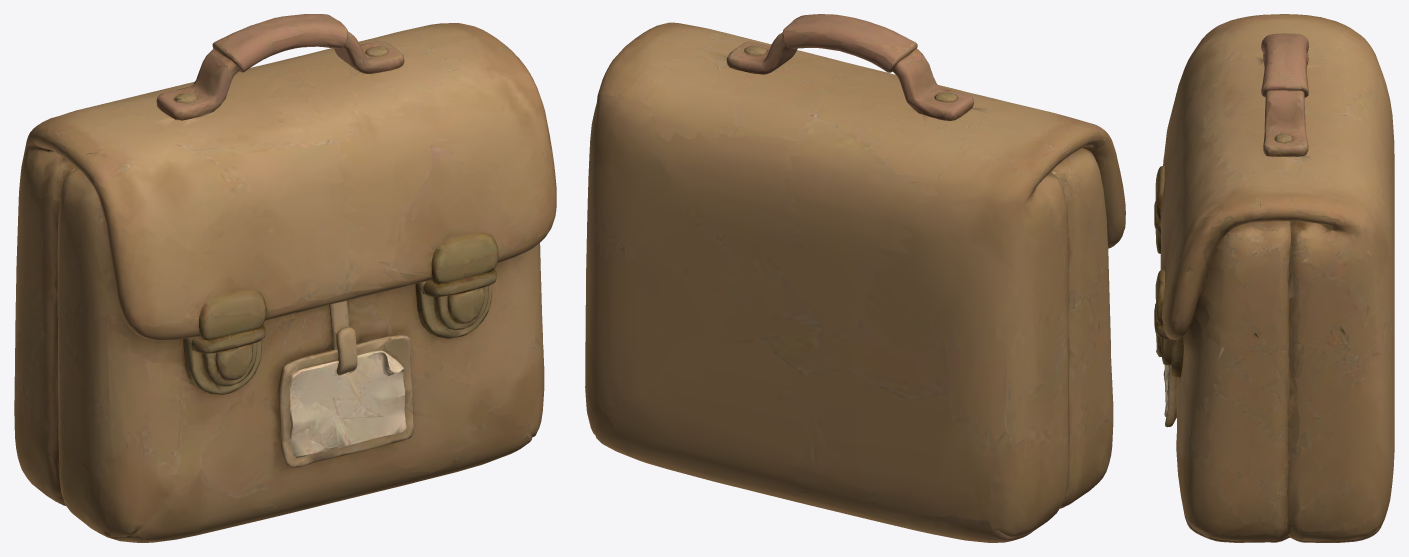
Rendered from t1-canvas-v2.glb.
The picture shows the model from 3 angles, left to right: view 1: azimuth 30°, elevation 25°; view 2: azimuth 150°, elevation 25°; view 3: azimuth 270°, elevation 25°; orthographic projection. The views are drawn at different scales.
Parts seen in each view (by area): view 1: mesh_node; view 2: mesh_node; view 3: mesh_node.
Part boxes in pixels (left/top/right/bottom): mesh_node: left=14, top=14, right=556, bottom=542; mesh_node: left=585, top=14, right=1125, bottom=542; mesh_node: left=1154, top=14, right=1394, bottom=542.
Bounding box in the file's own units: 1.9 × 1.83 × 0.9551.
Materials: 1 (1 with a texture image).
